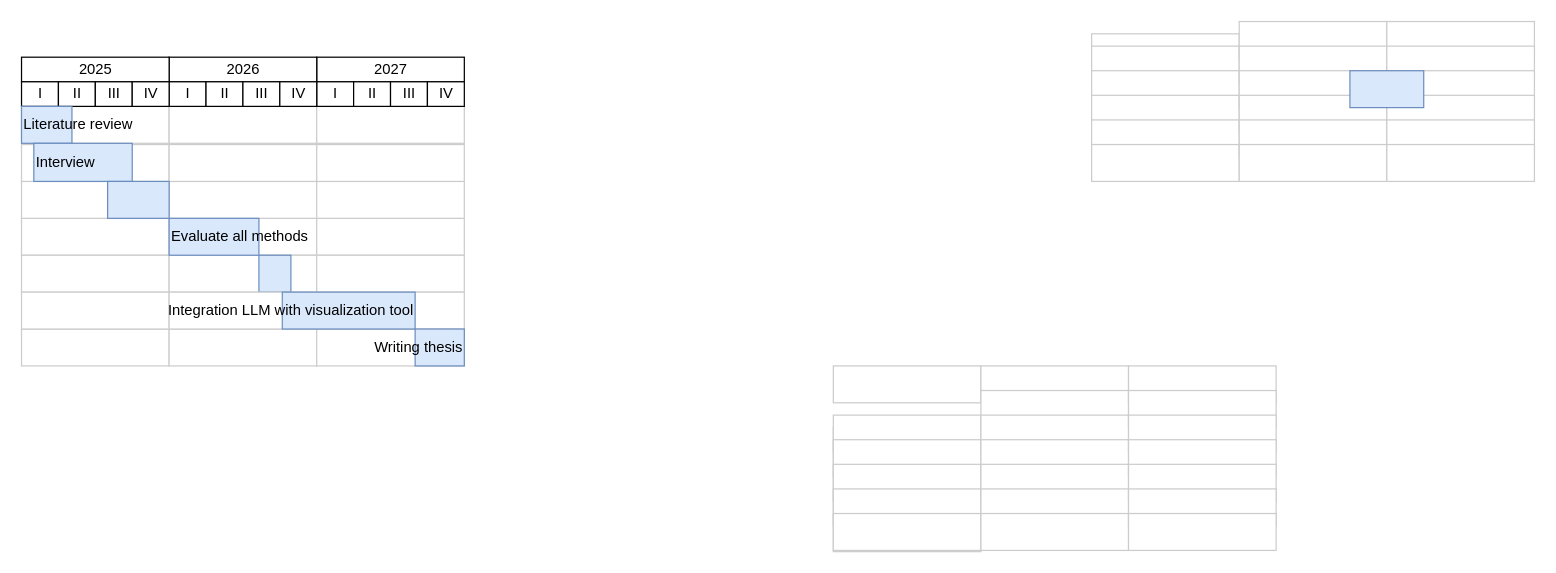
This 1556x573 diagram has some shape labels left out. The box of each missing label's shape, as (x1, y1, x2, y2) in pixels:
Create patterns: (106, 180, 169, 218)
Task 5: (1349, 69, 1424, 108)
Task complexity experiment: (258, 254, 291, 292)
